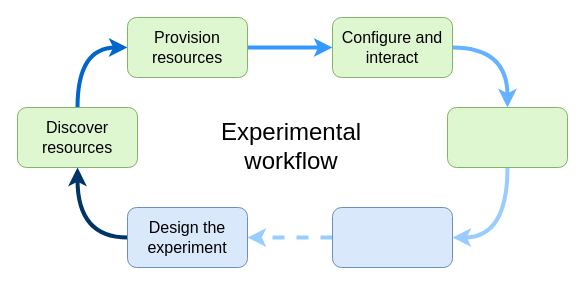
Some shapes in this 585 by 285 pixel diagram are drawn without their labels. Here are the shapes that lost their labels. From the top down, the centre of each, then its label:
the point at 507,137: Monitor
the point at 392,237: Analyze, discuss, share
